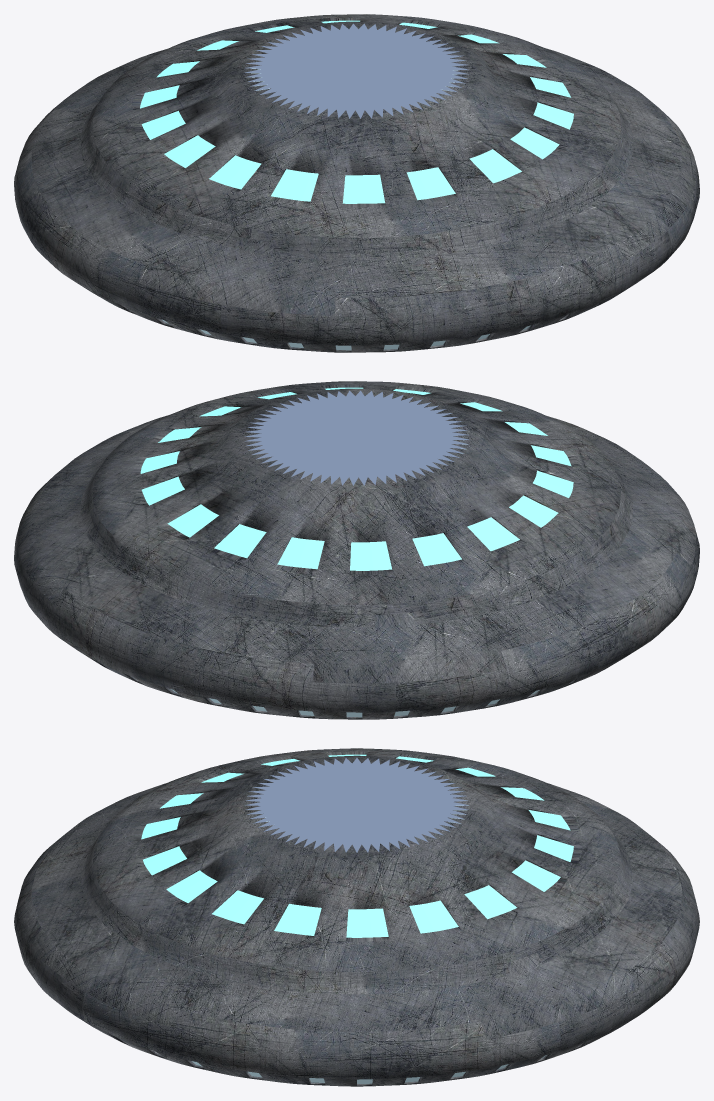
The model's file is ufo.FBX.
3 renders of one model, top to bottom at view 1: azimuth 30°, elevation 25°; view 2: azimuth 150°, elevation 25°; view 3: azimuth 270°, elevation 25°, orthographic.
Visible parts, largest first — view 1: Circle, Circle.003, Circle.002, Circle.001; view 2: Circle, Circle.003, Circle.002; view 3: Circle, Circle.003, Circle.002.
Part boxes in pixels (x1=…): Circle: x1=14, y1=14, x2=699, y2=352; Circle.003: x1=245, y1=23, x2=468, y2=118; Circle.002: x1=140, y1=20, x2=573, y2=203; Circle.001: x1=162, y1=68, x2=530, y2=350; Circle: x1=14, y1=381, x2=699, y2=719; Circle.003: x1=245, y1=390, x2=468, y2=485; Circle.002: x1=140, y1=387, x2=573, y2=570; Circle: x1=14, y1=748, x2=699, y2=1086; Circle.003: x1=245, y1=758, x2=468, y2=852; Circle.002: x1=141, y1=754, x2=573, y2=937.
Bounding box in the file's own units: 884 × 256 × 884.
